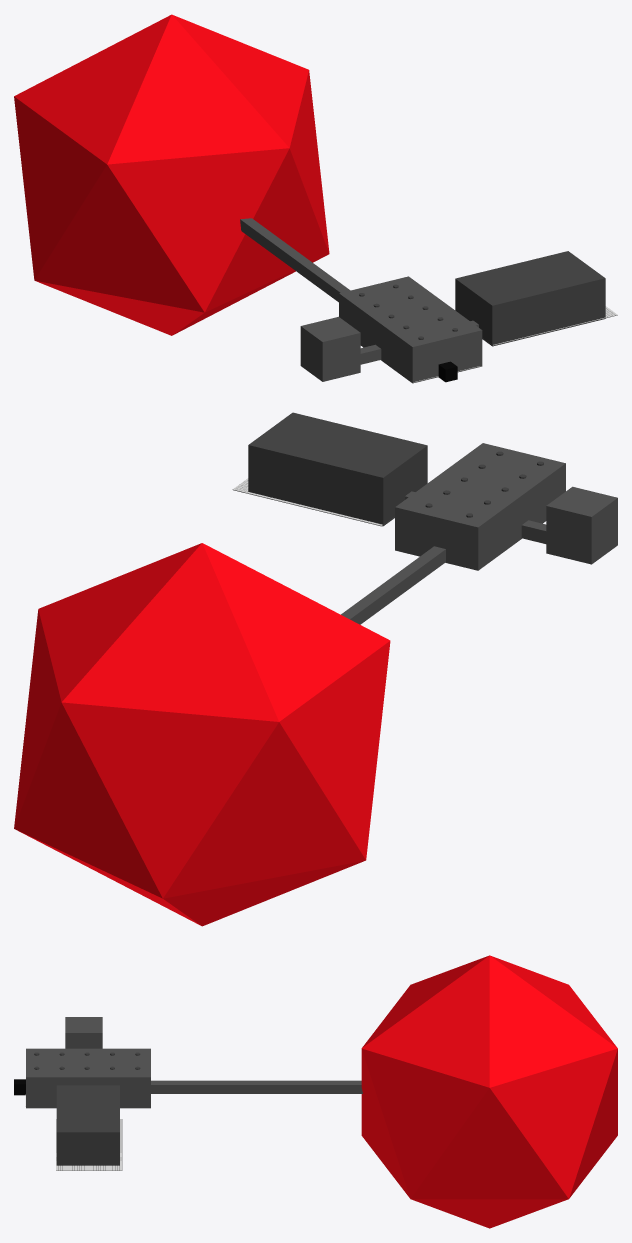
The model's file is katakumby.glb.
3 renders of one model, top to bottom at view 1: azimuth 30°, elevation 25°; view 2: azimuth 150°, elevation 25°; view 3: azimuth 270°, elevation 25°, orthographic. The views are drawn at different scales.
Visible parts, largest first — view 1: Icosphere, Cube, K0, Cube.001, F1; view 2: Icosphere, Cube, K0, Cube.001, F1; view 3: Icosphere, K0, Cube, F1, Cube.001, F0.001.
Boxes of the visible parts, x1,y1,x2,y2 form: Icosphere: (14,14,329,335); Cube: (455,251,605,346); K0: (339,276,482,383); Cube.001: (300,316,360,381); F1: (240,218,350,302); Icosphere: (14,543,390,926); Cube: (248,412,427,526); K0: (395,443,565,570); Cube.001: (546,486,617,564); F1: (341,546,445,624); Icosphere: (361,955,617,1228); K0: (26,1048,150,1108); Cube: (56,1085,119,1165); F1: (151,1080,362,1093); Cube.001: (65,1017,102,1048); F0.001: (56,1119,122,1170).
Bounding box in the file's own units: 301 × 282 × 564.
